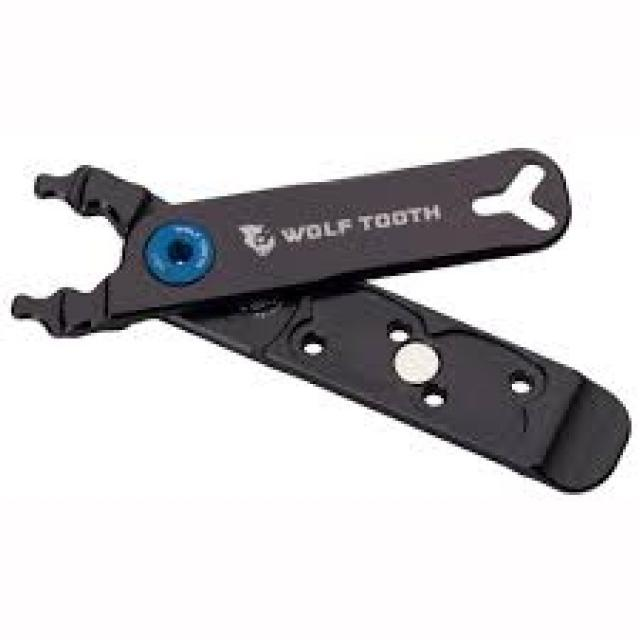pliers: (6, 133, 632, 496)
